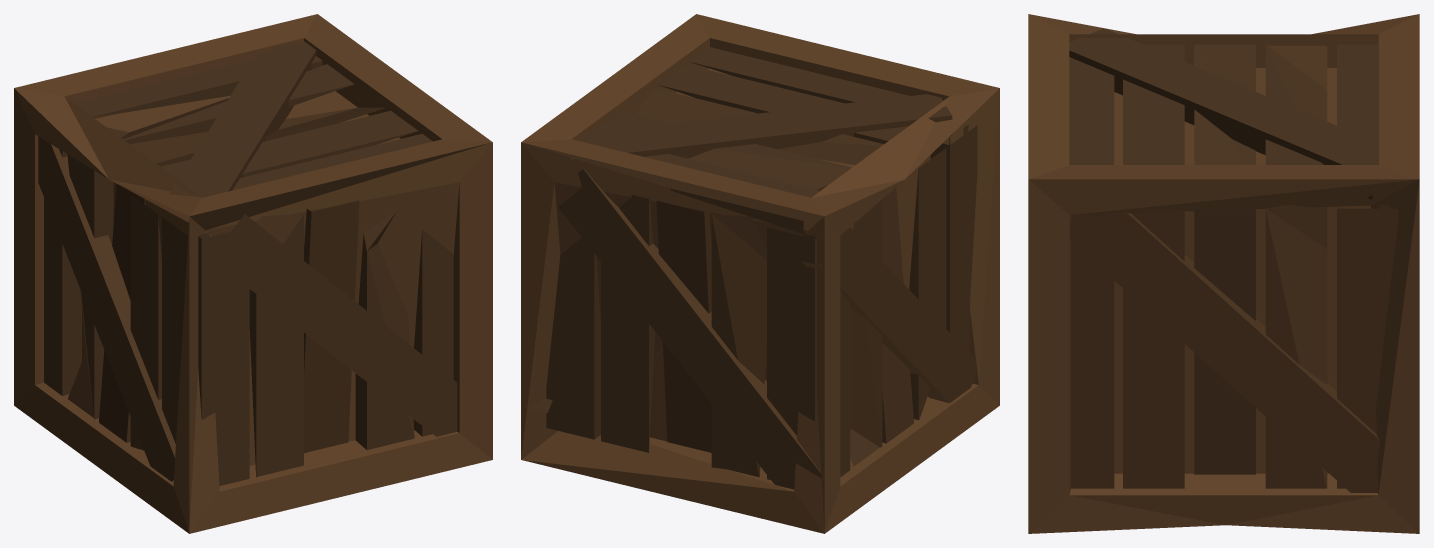
Rendered from Crate.glb.
3 renders of one model, left to right at view 1: azimuth 30°, elevation 25°; view 2: azimuth 150°, elevation 25°; view 3: azimuth 270°, elevation 25°, orthographic. The views are drawn at different scales.
Parts seen in each view (by area): view 1: Crate; view 2: Crate; view 3: Crate.
Part boxes in pixels (<box>): Crate: <box>14,14,492,533</box>; Crate: <box>521,14,999,533</box>; Crate: <box>1028,14,1419,533</box>.
Bounding box in the file's own units: 0.1602 × 0.1602 × 0.1602.
